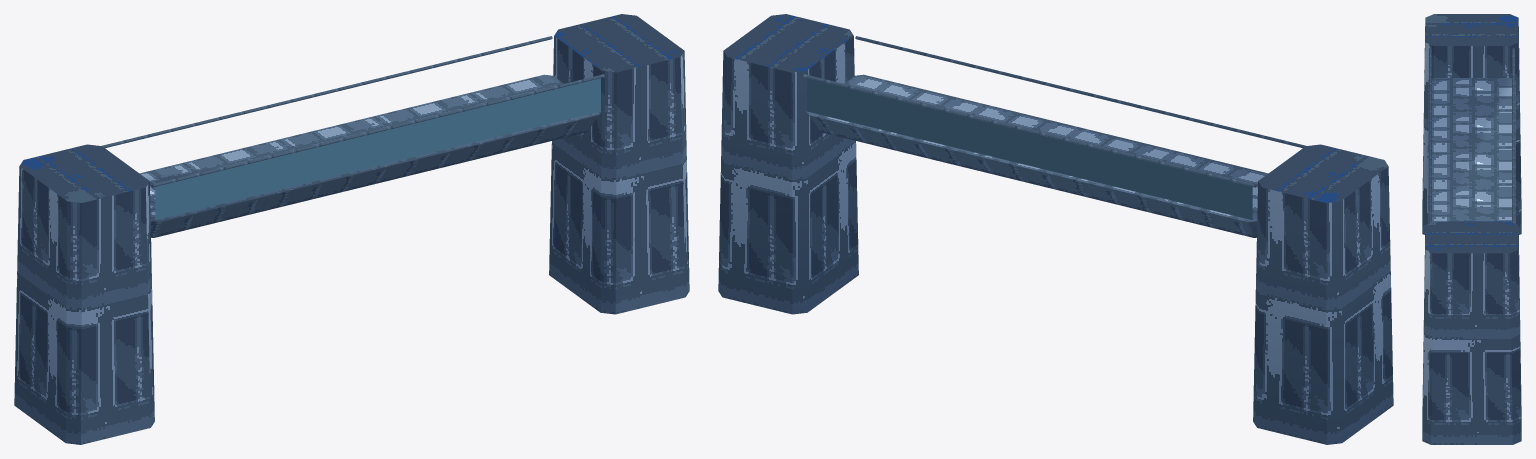
File: cystreet.bridge.glb
The picture shows the model from 3 angles, left to right: view 1: azimuth 30°, elevation 25°; view 2: azimuth 150°, elevation 25°; view 3: azimuth 270°, elevation 25°; orthographic projection. The views are drawn at different scales.
Visible parts, largest first — view 1: kit_deck, kit_card_glass; view 2: kit_deck, kit_card_glass; view 3: kit_deck.
Boxes of the visible parts, <box> form: kit_deck: <box>14,14,689,444</box>; kit_card_glass: <box>155,78,600,219</box>; kit_deck: <box>718,14,1393,444</box>; kit_card_glass: <box>807,78,1252,219</box>; kit_deck: <box>1422,14,1521,444</box>.
Bounding box in the file's own units: 19.6 × 7.2 × 3.4.
Materials: 7 (6 with a texture image).
